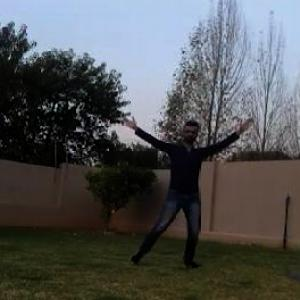takeoff: (114, 108, 255, 262)
